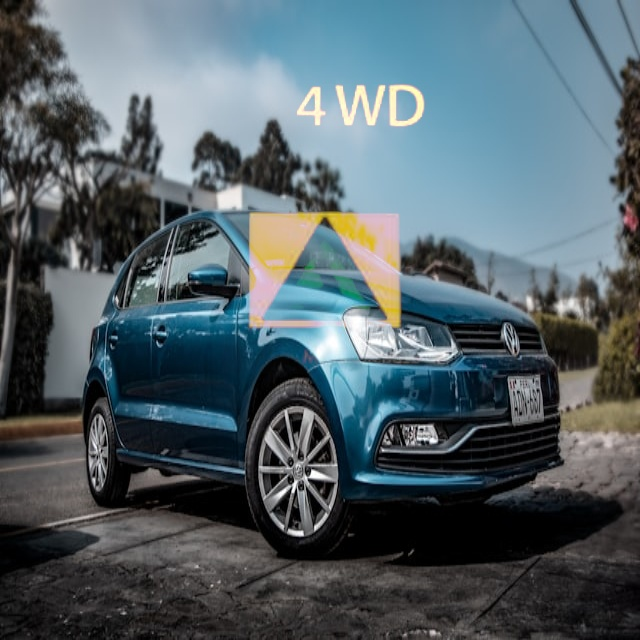symbol: (222, 168, 428, 374), (279, 27, 440, 188)
